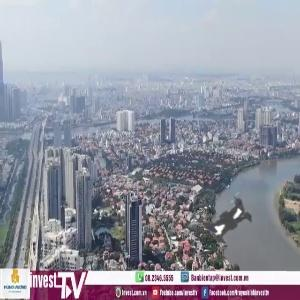drone: (174, 163, 291, 280)
